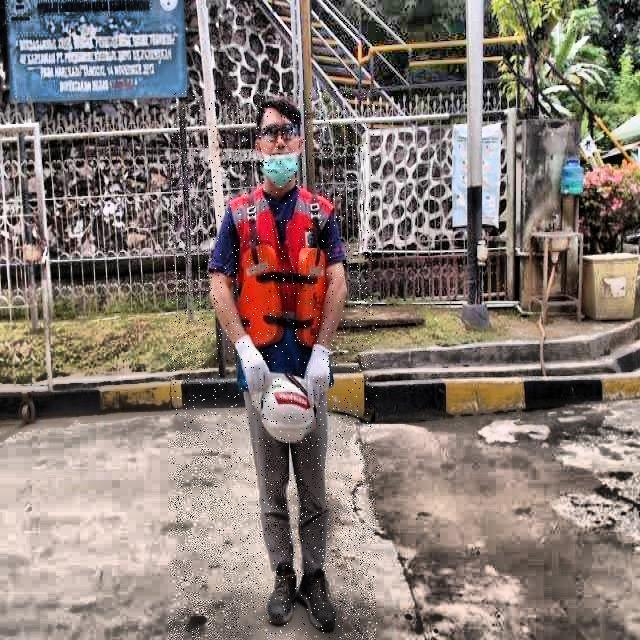safety_helmet: (248, 371, 317, 441)
safety_jacket: (229, 184, 334, 391)
